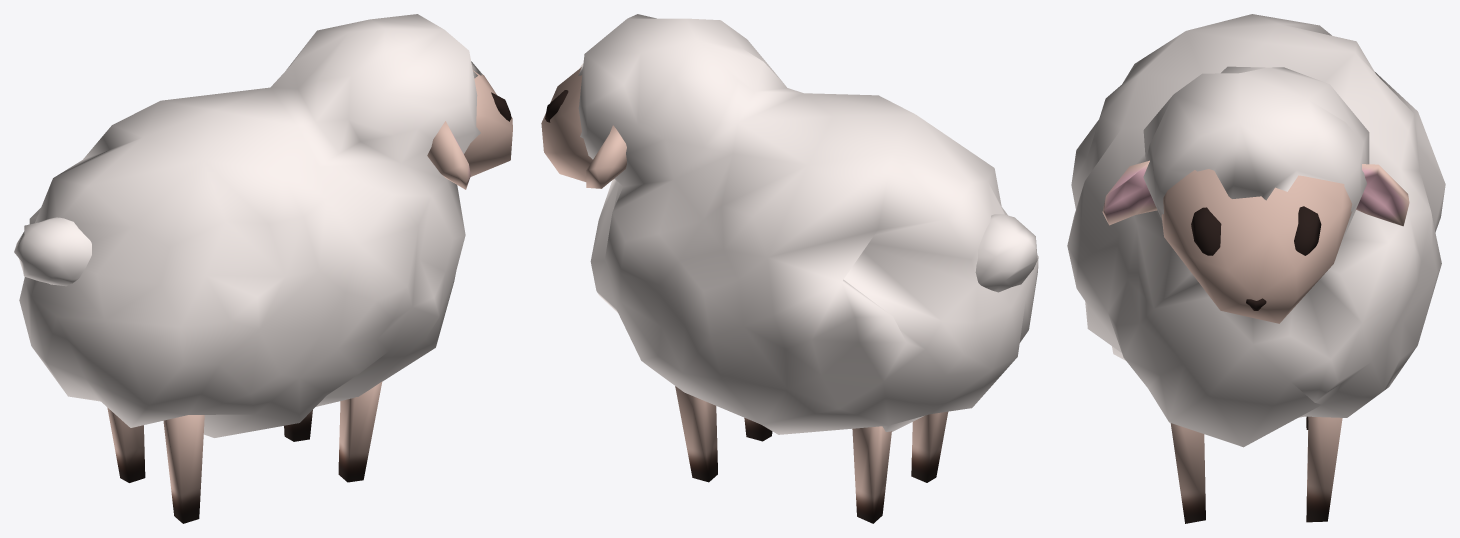
File: tree_sheep1.fbx
3 views of the same model, side by side, from view 1: azimuth 30°, elevation 25°; view 2: azimuth 150°, elevation 25°; view 3: azimuth 270°, elevation 25° (orthographic). The views are drawn at different scales.
Visible parts, largest first — view 1: tree_sheep1; view 2: tree_sheep1; view 3: tree_sheep1.
Boxes of the visible parts, left/top/right/bottom form: tree_sheep1: left=14, top=14, right=512, bottom=523; tree_sheep1: left=541, top=14, right=1038, bottom=523; tree_sheep1: left=1067, top=14, right=1445, bottom=523.
Size of the model in its own units: 385 by 321 by 231.
Materials: 1 (1 with a texture image).
